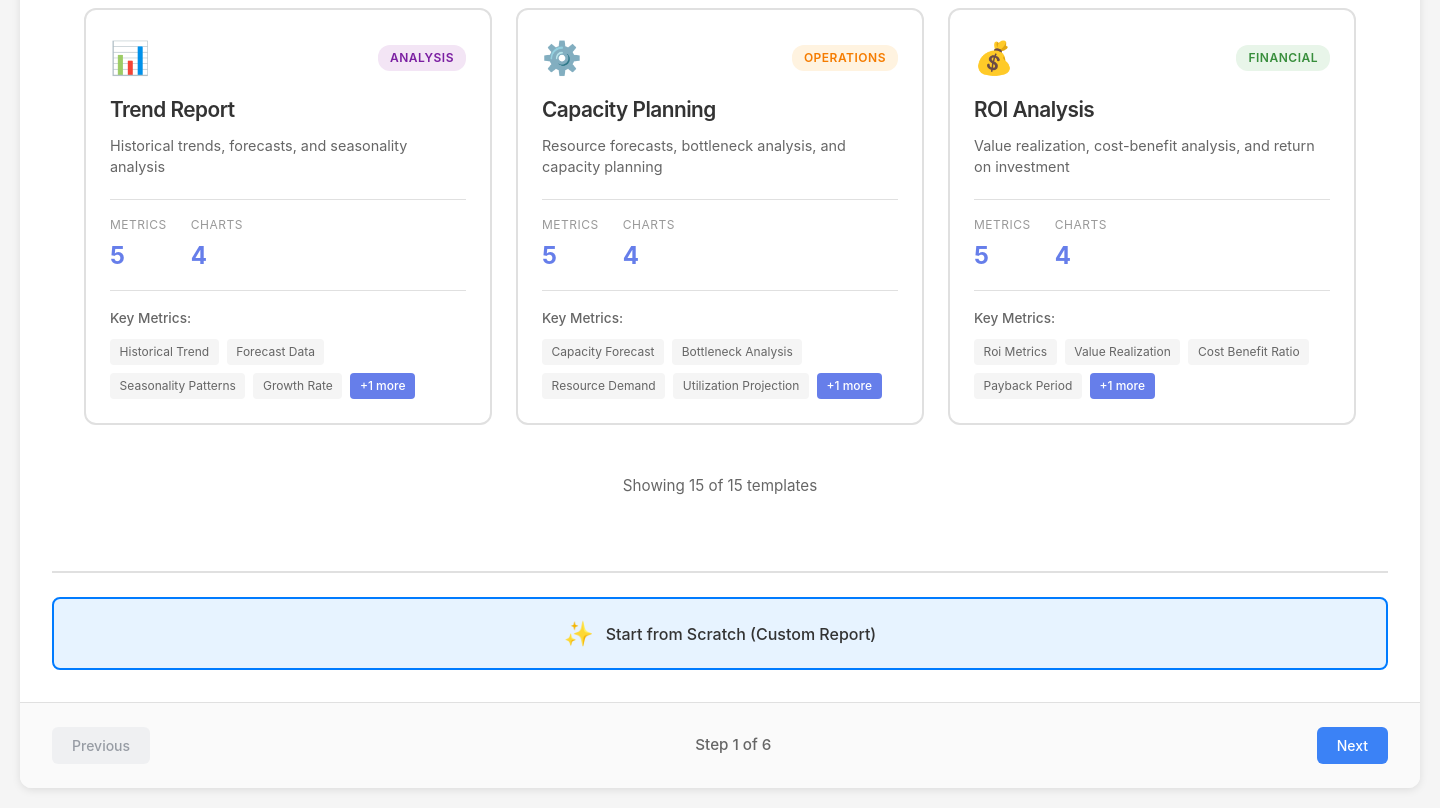
Test case: ReportBuilder › disables Next button on metrics step when no metrics selected
(page scrolled)
Click the button "Next" at (1352, 746), box [1317,727,1388,764]
(page scrolled)
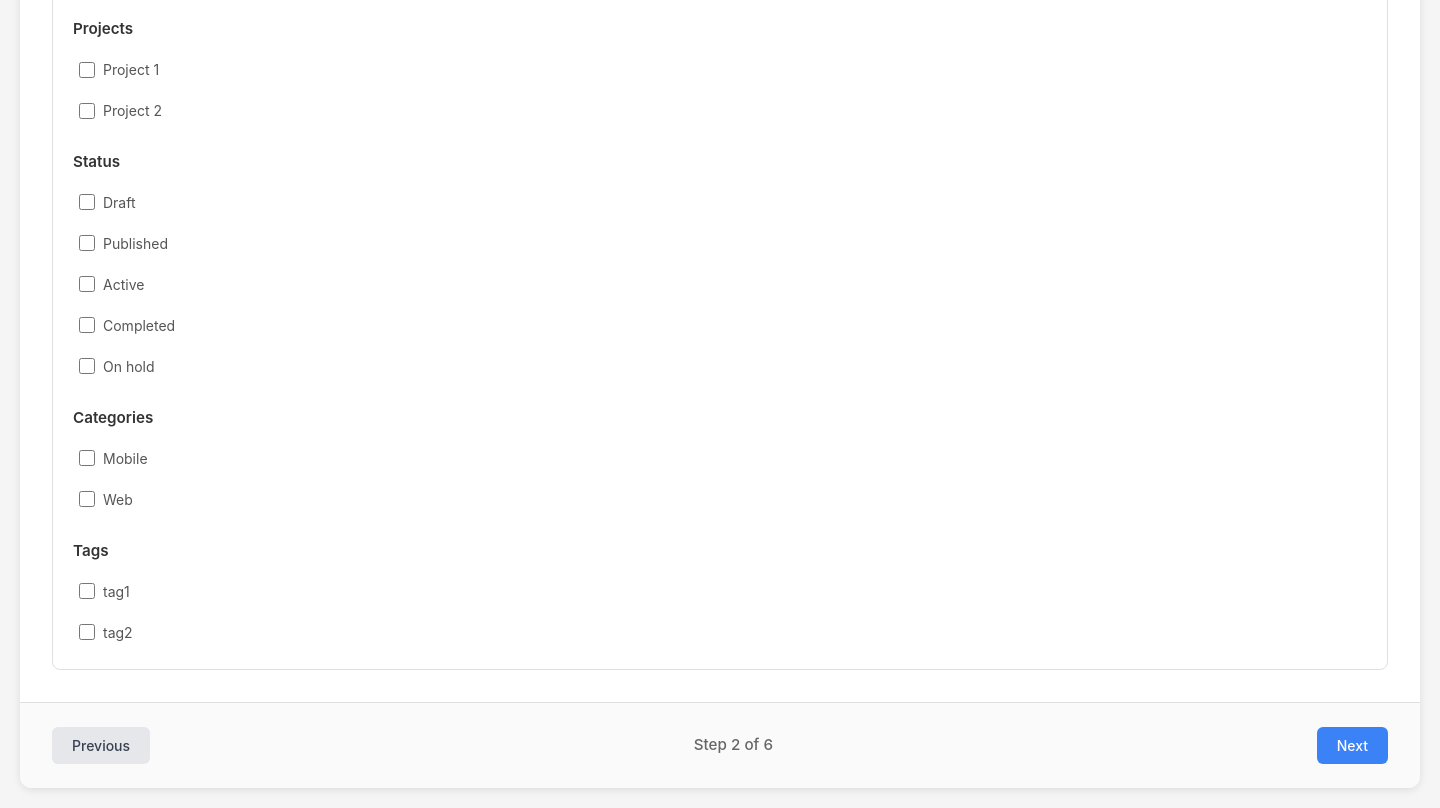
Click the button "Next" at (1352, 745), box [1317,727,1388,764]
(page scrolled)
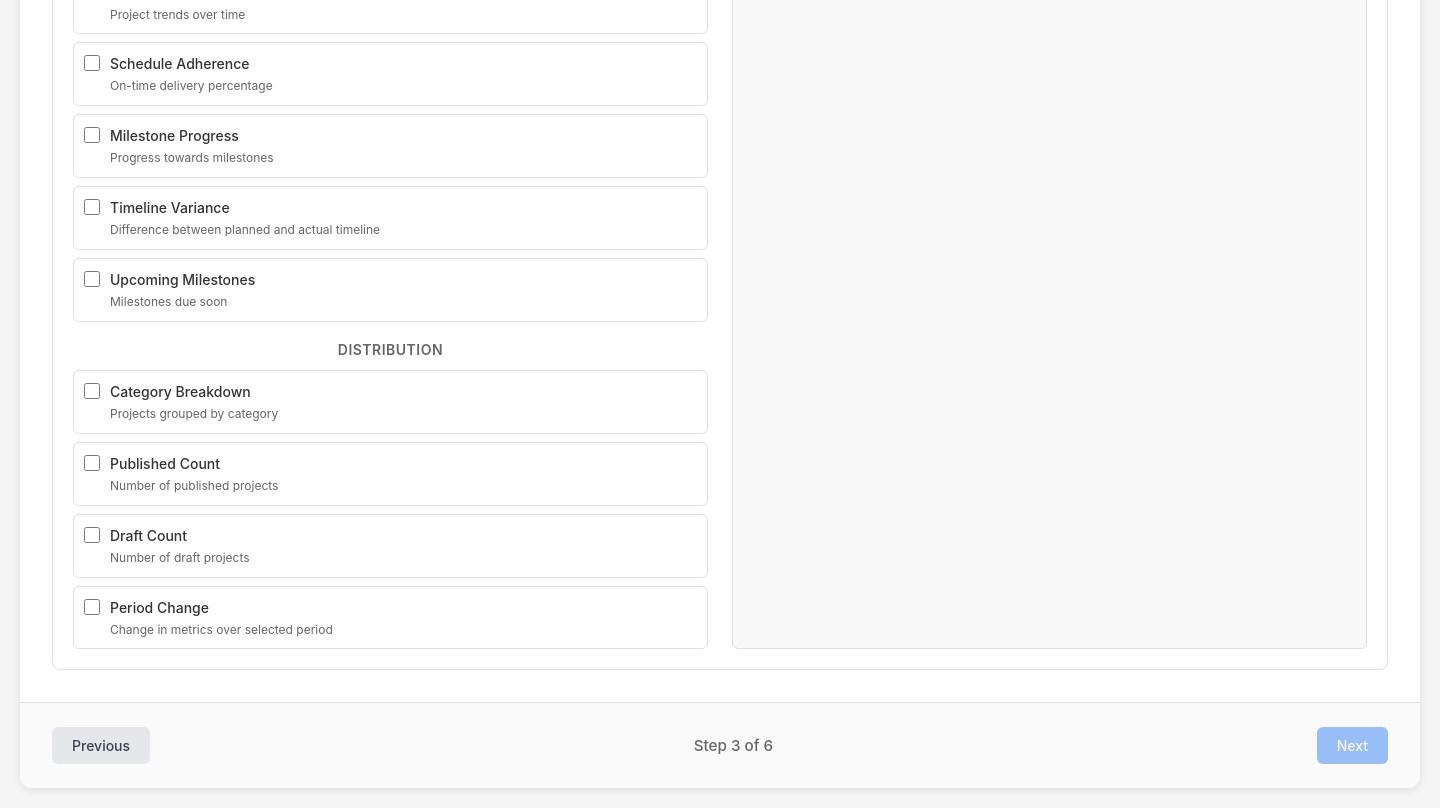
Check: the button "Next" is disabled, box [1317,728,1388,764]
